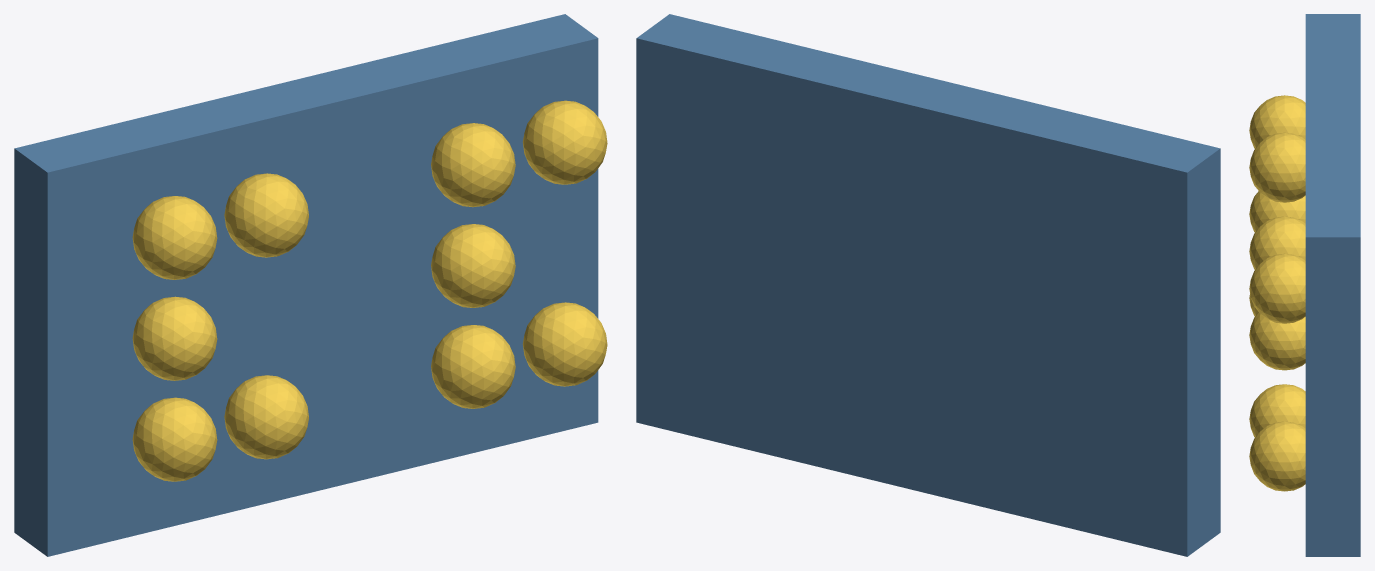
3 views of the same model, side by side, from view 1: azimuth 30°, elevation 25°; view 2: azimuth 150°, elevation 25°; view 3: azimuth 270°, elevation 25° (orthographic). The views are drawn at different scales.
Visible parts, largest first — view 1: world; view 2: world; view 3: world.
Part boxes in pixels (box(x1,y1,x2,y2)): world: box(14, 14, 607, 556); world: box(636, 14, 1220, 556); world: box(1249, 14, 1360, 556).
Bounding box in the file's own units: 2.4 × 1.6 × 0.505.
